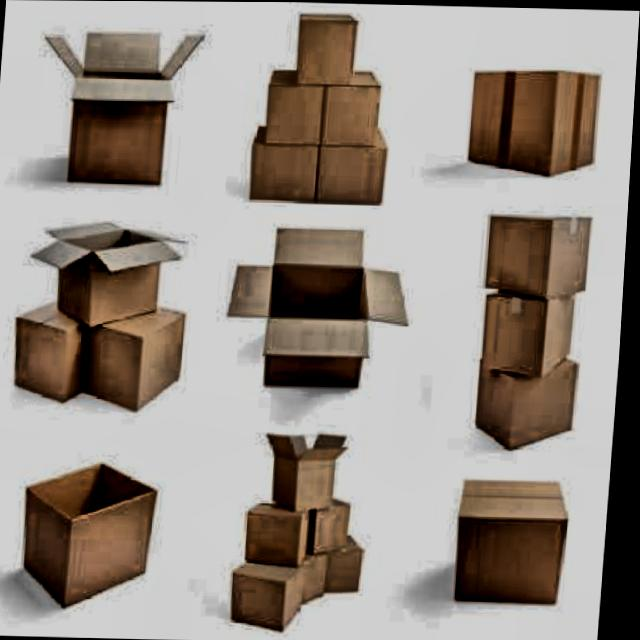Cardbox: (16, 219, 208, 417), (217, 219, 434, 389), (248, 2, 420, 209), (40, 20, 235, 201), (467, 202, 604, 458), (226, 413, 386, 630), (430, 34, 628, 193), (2, 456, 170, 615), (449, 467, 582, 606)
